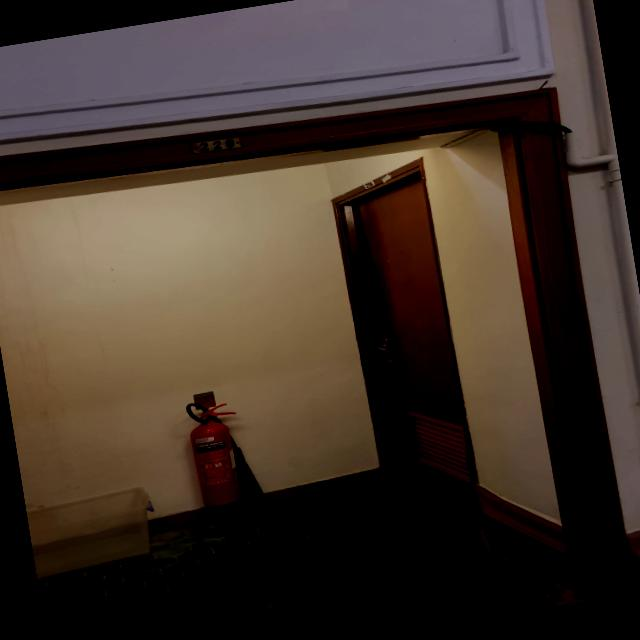room229: (188, 132, 245, 157)
